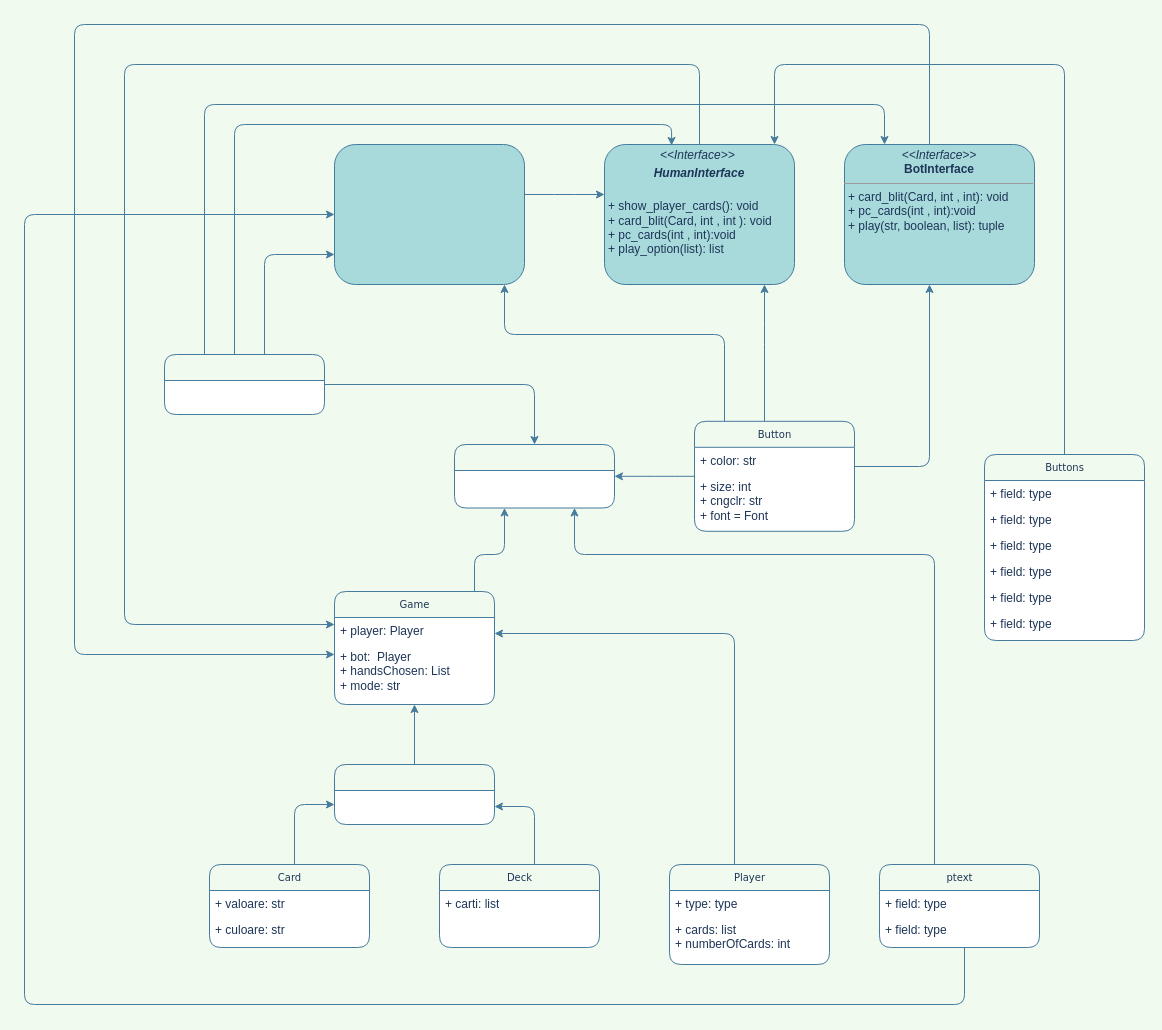
Image size: 1162x1030. Some labels were removed from this diagram. Each missing label, with the centre of its shape:
<<Interface>> WinnerInterface + endGame(boolean): boolean: the point at 429,214
CardClass: the point at 414,794
Main: the point at 534,476
SoundsUtil: the point at 244,384
